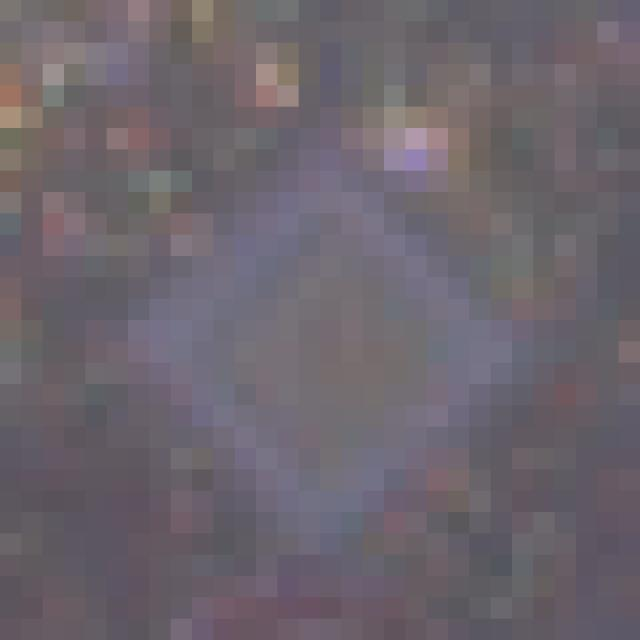Main Road: (108, 129, 513, 534)
